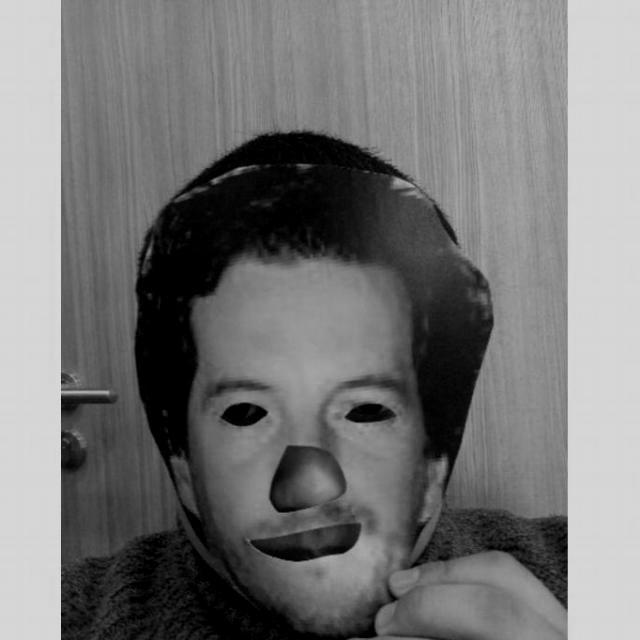fake: (132, 165, 496, 640)
